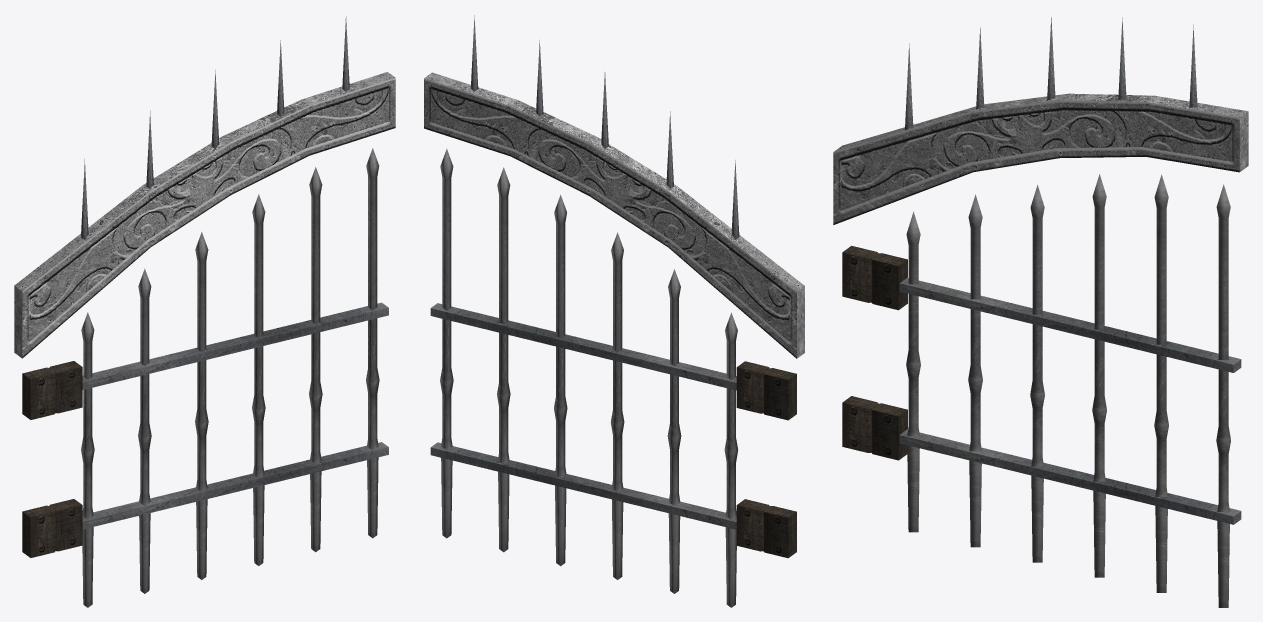
The model's file is gate.FBX.
The picture shows the model from 3 angles, left to right: view 1: azimuth 30°, elevation 25°; view 2: azimuth 150°, elevation 25°; view 3: azimuth 330°, elevation 25°; orthographic projection. The views are drawn at different scales.
Visible parts, largest first — view 1: door, Box01, hinge3, hinge4, hinge, hinge2; view 2: door, Box01, hinge3, hinge4, hinge, hinge2; view 3: door, Box01, hinge, hinge2, hinge3, hinge4.
Boxes of the visible parts, x1=… form: door: x1=81, y1=148, x2=388, y2=607; Box01: x1=14, y1=16, x2=395, y2=358; hinge3: x1=22, y1=367, x2=56, y2=419; hinge4: x1=22, y1=505, x2=56, y2=557; hinge: x1=49, y1=361, x2=82, y2=413; hinge2: x1=49, y1=499, x2=82, y2=551; door: x1=430, y1=148, x2=738, y2=607; Box01: x1=424, y1=15, x2=804, y2=358; hinge3: x1=762, y1=368, x2=796, y2=420; hinge4: x1=762, y1=506, x2=796, y2=558; hinge: x1=736, y1=361, x2=769, y2=413; hinge2: x1=736, y1=499, x2=769, y2=551; door: x1=899, y1=174, x2=1241, y2=607; Box01: x1=833, y1=17, x2=1248, y2=224; hinge: x1=871, y1=253, x2=907, y2=310; hinge2: x1=871, y1=403, x2=907, y2=460; hinge3: x1=842, y1=245, x2=879, y2=302; hinge4: x1=842, y1=396, x2=879, y2=452.
Size of the model in its own units: 161 by 219 by 6.37.
